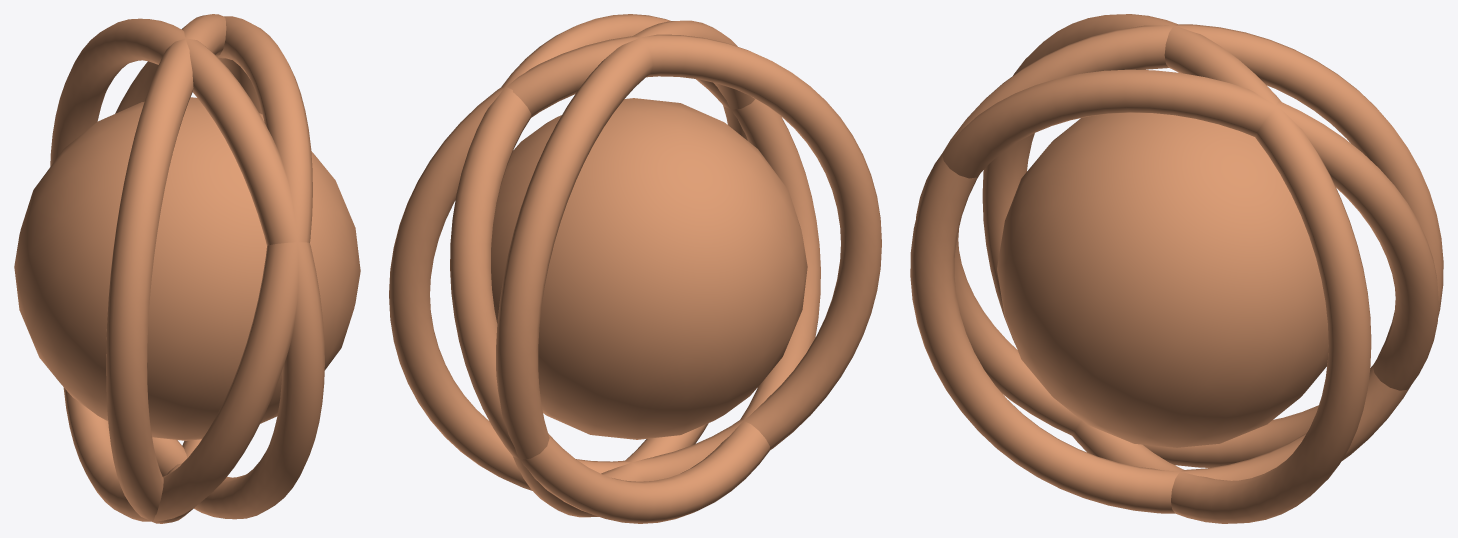
File: assistant-mark.glb
3 renders of one model, left to right at view 1: azimuth 30°, elevation 25°; view 2: azimuth 150°, elevation 25°; view 3: azimuth 270°, elevation 25°, orthographic. The views are drawn at different scales.
Bounding box in the file's own units: 1.14 × 1.57 × 1.57.
